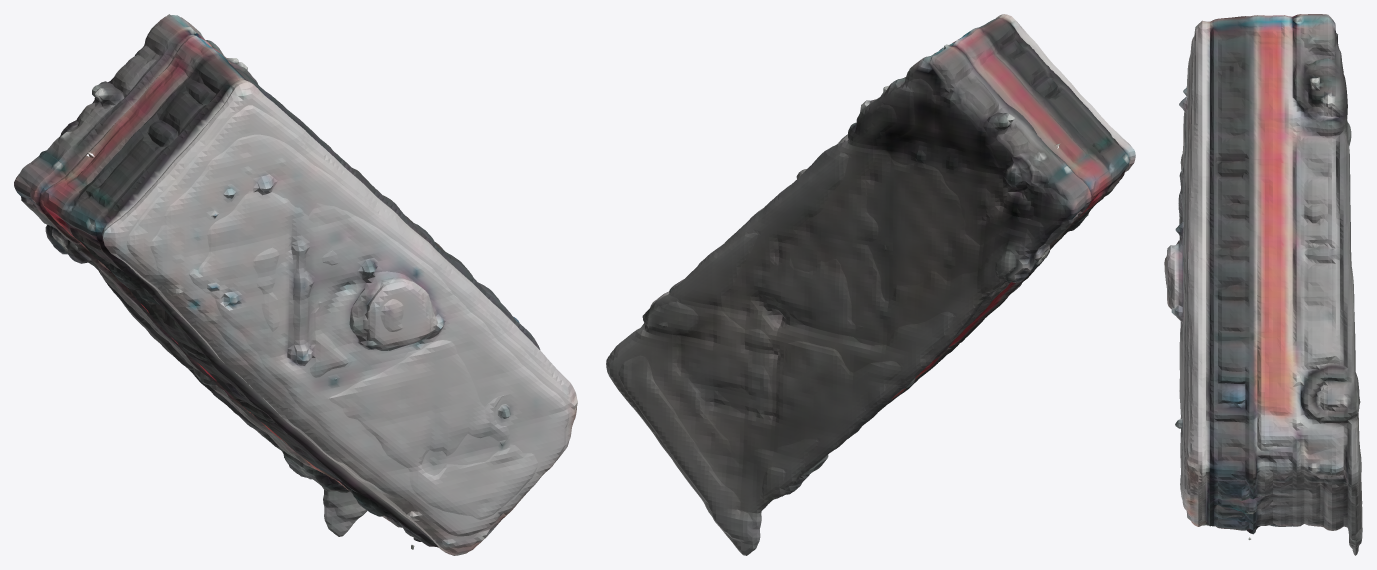
File: 000007_isolated_omnibus_buses.glb
The picture shows the model from 3 angles, left to right: view 1: azimuth 30°, elevation 25°; view 2: azimuth 150°, elevation 25°; view 3: azimuth 270°, elevation 25°; orthographic projection. The views are drawn at different scales.
Visible parts, largest first — view 1: world; view 2: world; view 3: world.
Part boxes in pixels (bbox=[...]): world: bbox=[14, 14, 577, 555]; world: bbox=[606, 14, 1135, 555]; world: bbox=[1164, 14, 1362, 555].
Size of the model in its own units: 0.8038 by 0.8926 by 0.3438.
